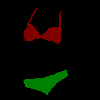mutande: (23, 69, 68, 95)
reggiseno: (24, 7, 63, 44)
